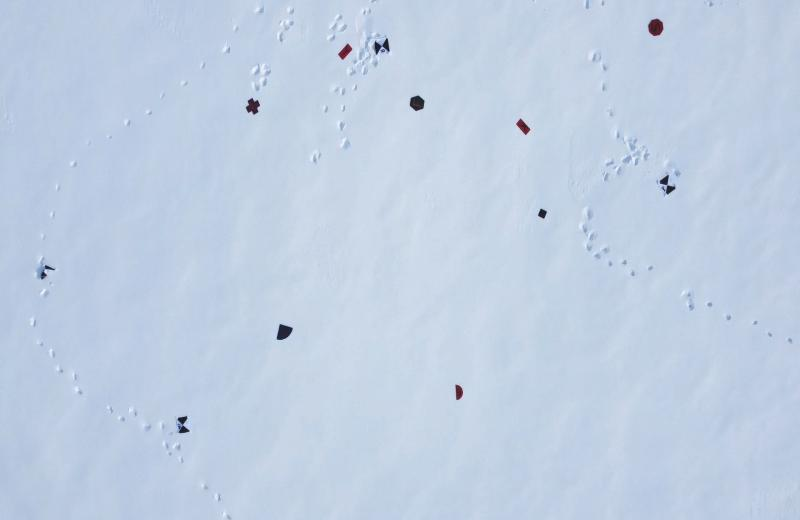Cross: (244, 97, 262, 116)
Hexagon: (408, 95, 426, 113)
Octagon: (647, 17, 664, 39)
Quarter Circle: (274, 322, 295, 342)
Rectangle: (336, 40, 353, 62), (516, 116, 531, 136)
Semi Circle: (453, 383, 464, 404)
Square: (537, 206, 548, 222)
